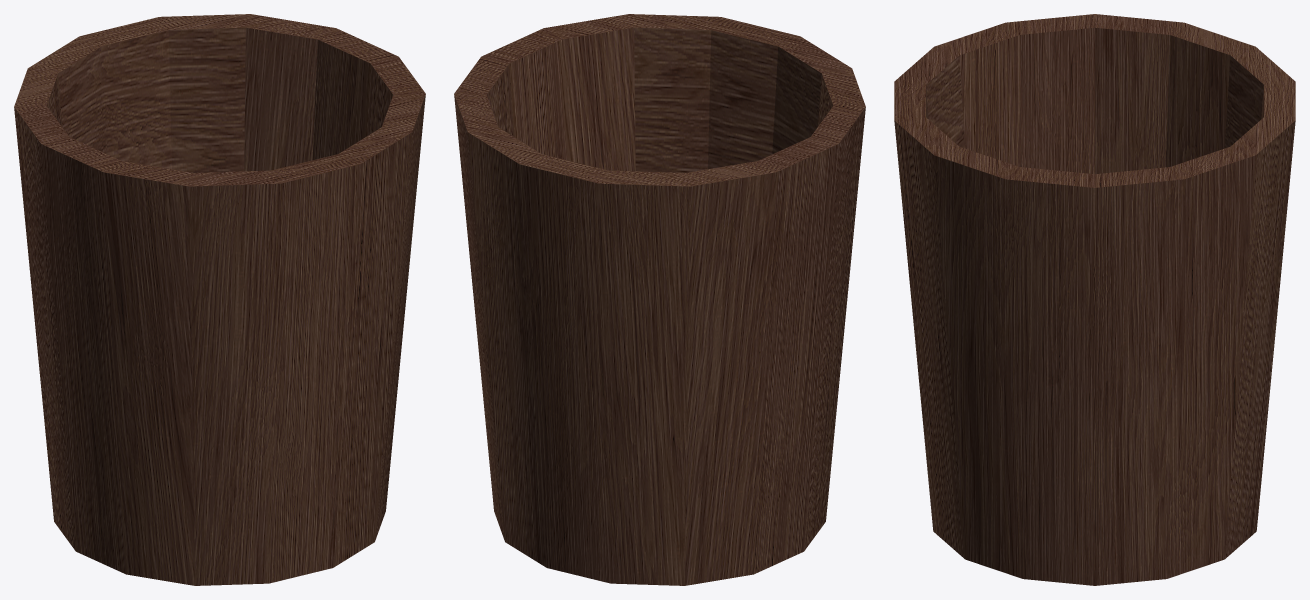
Rendered from pencilpot.fbx.
3 views of the same model, side by side, from view 1: azimuth 30°, elevation 25°; view 2: azimuth 150°, elevation 25°; view 3: azimuth 270°, elevation 25° (orthographic).
Visible parts, largest first — view 1: PencilPot; view 2: PencilPot; view 3: PencilPot.
Boxes of the visible parts, bbox=[...] form: PencilPot: bbox=[14, 14, 425, 585]; PencilPot: bbox=[454, 14, 865, 585]; PencilPot: bbox=[894, 14, 1295, 585].
Bounding box in the file's own units: 131 × 146 × 128.
1 material, 1 textured.
